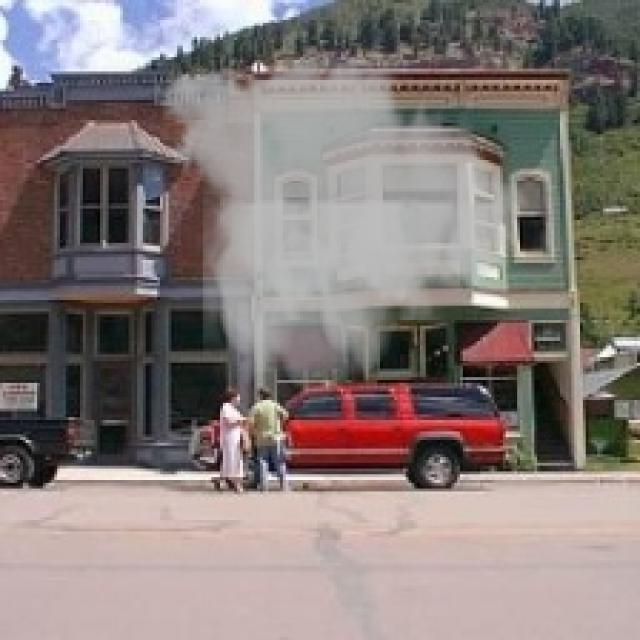smoke: (143, 46, 540, 403)
